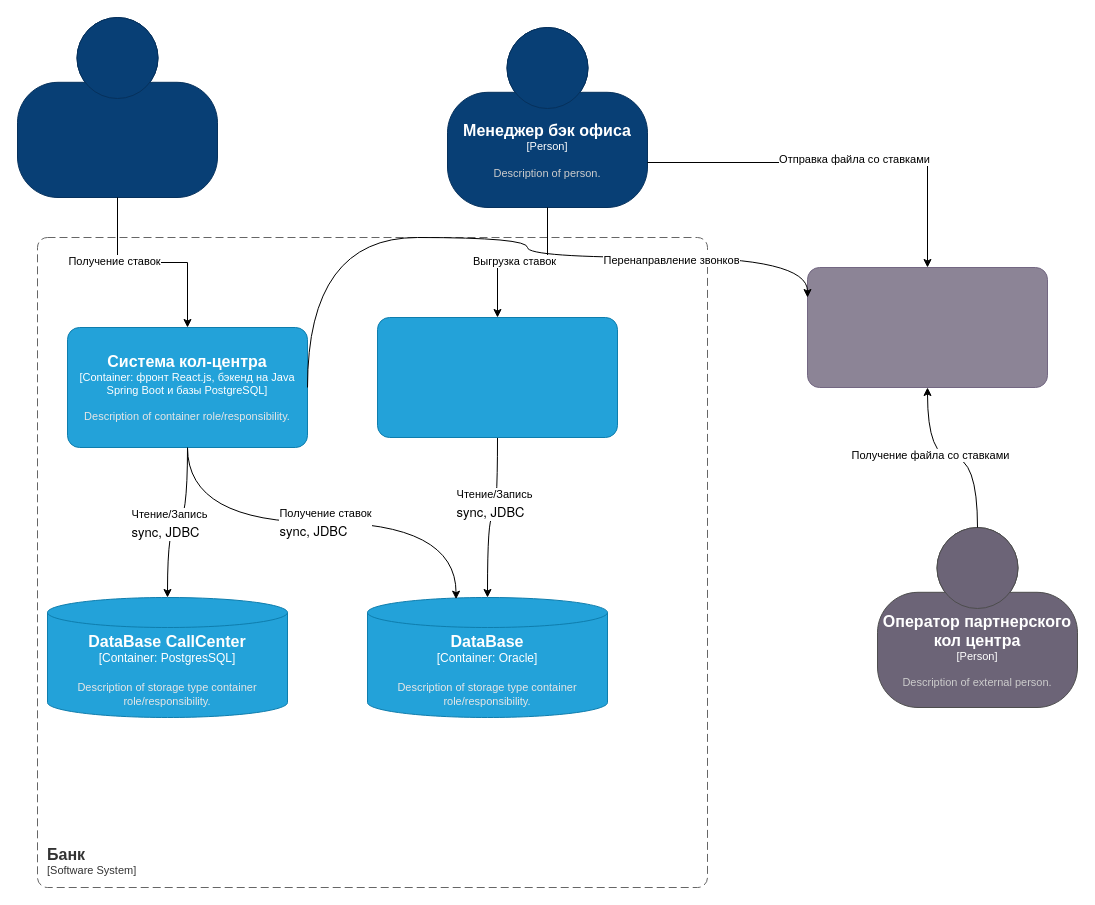
Image size: 1095x905. Some labels were removed from this diagram. The centre of each missing label's shape, as x and y in pixels:
"АБС [Container: Delphi] Description of container role/responsibility." belongs at [497,377].
"Оператор кол центра [Person] Description of person." belongs at [117,107].
"Партнерский кол центр [Software System] Description of external software system." belongs at [927,327].
